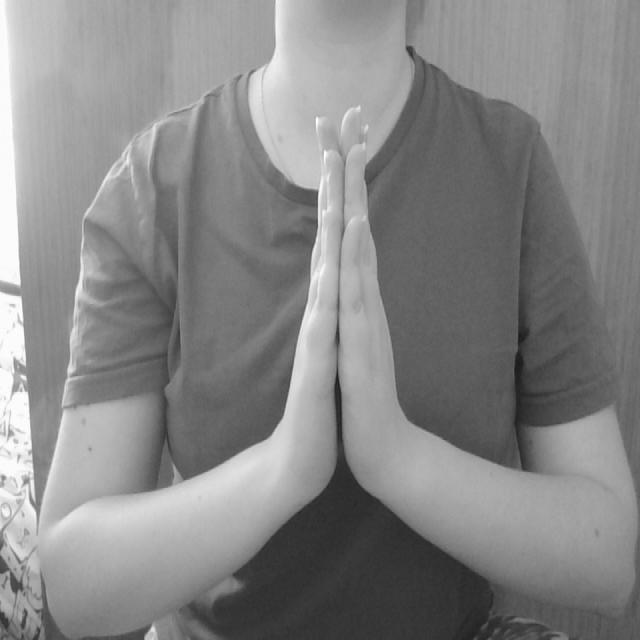Ozur-Dilemek: (269, 97, 419, 526)
